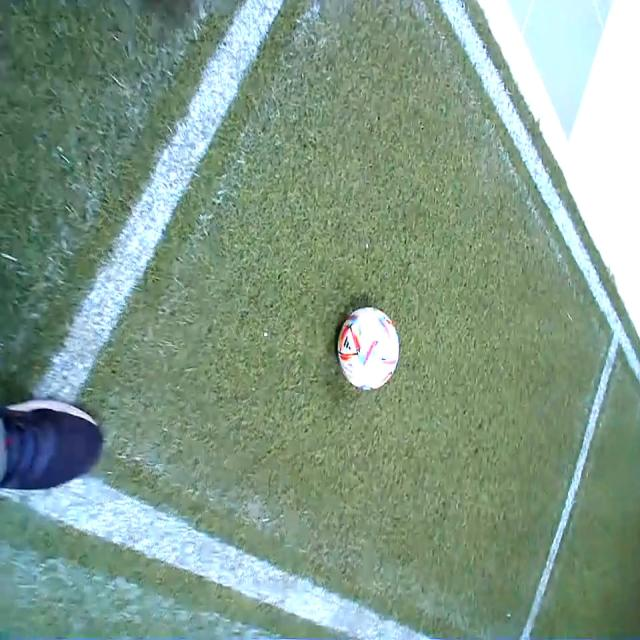ball: (338, 306, 400, 390)
